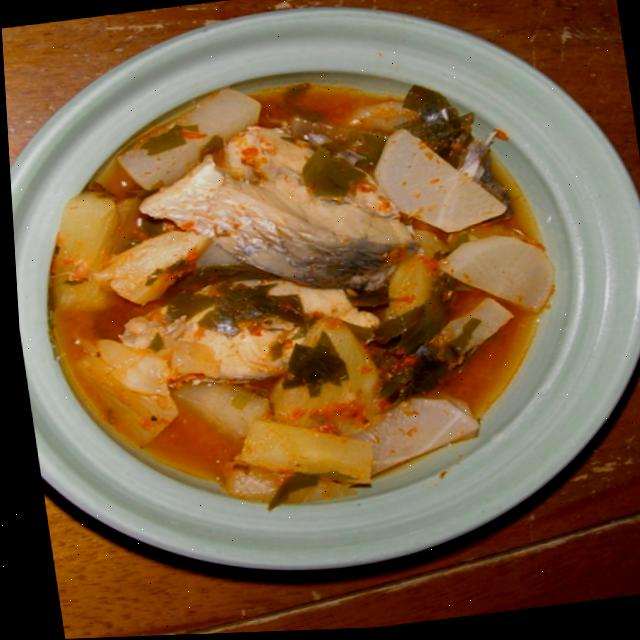汤锅炖物: (1, 9, 607, 583)
